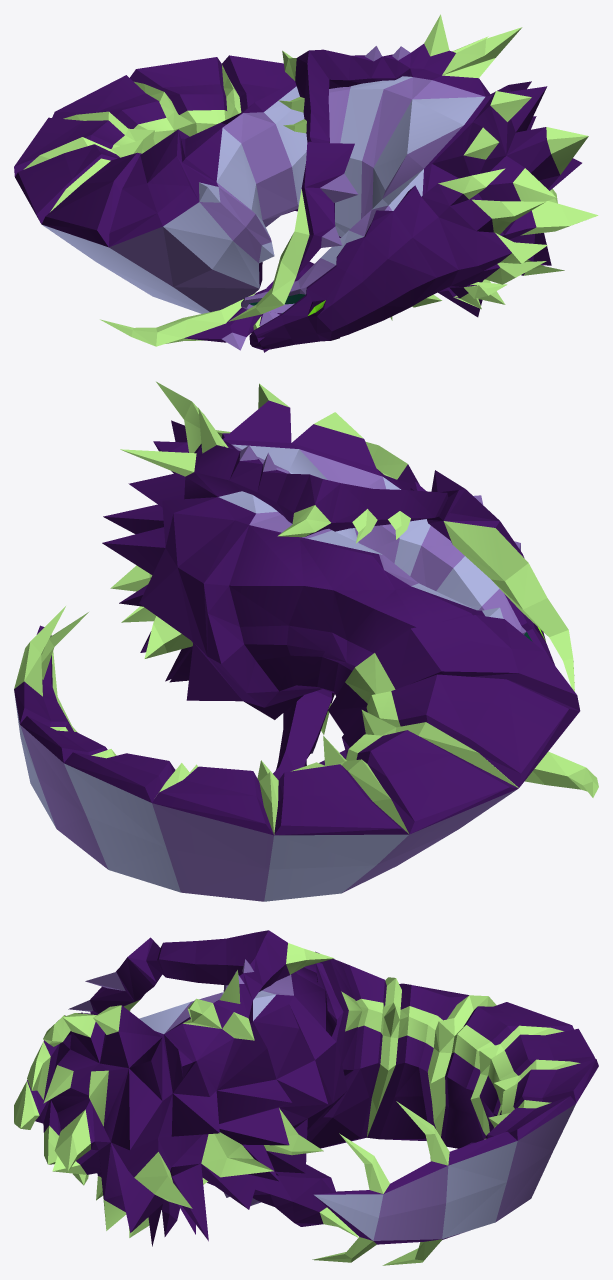
Rendered from Dead (42).obj.
3 renders of one model, top to bottom at view 1: azimuth 30°, elevation 25°; view 2: azimuth 150°, elevation 25°; view 3: azimuth 270°, elevation 25°, orthographic. The views are drawn at different scales.
Visible parts, largest first — view 1: Alien_Serpent; view 2: Alien_Serpent; view 3: Alien_Serpent.
Part boxes in pixels (x1,y1,x2,y2): Alien_Serpent: [14, 14, 598, 352]; Alien_Serpent: [14, 381, 598, 901]; Alien_Serpent: [14, 930, 598, 1265].
Size of the model in its own units: 213 by 145 by 246.
Materials: 1 (1 with a texture image).
